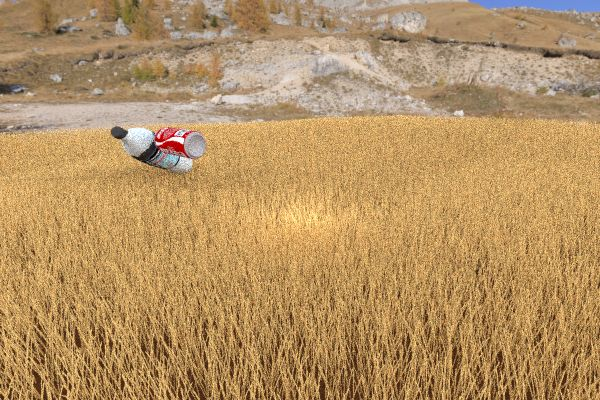bottle: (109, 125, 192, 174)
